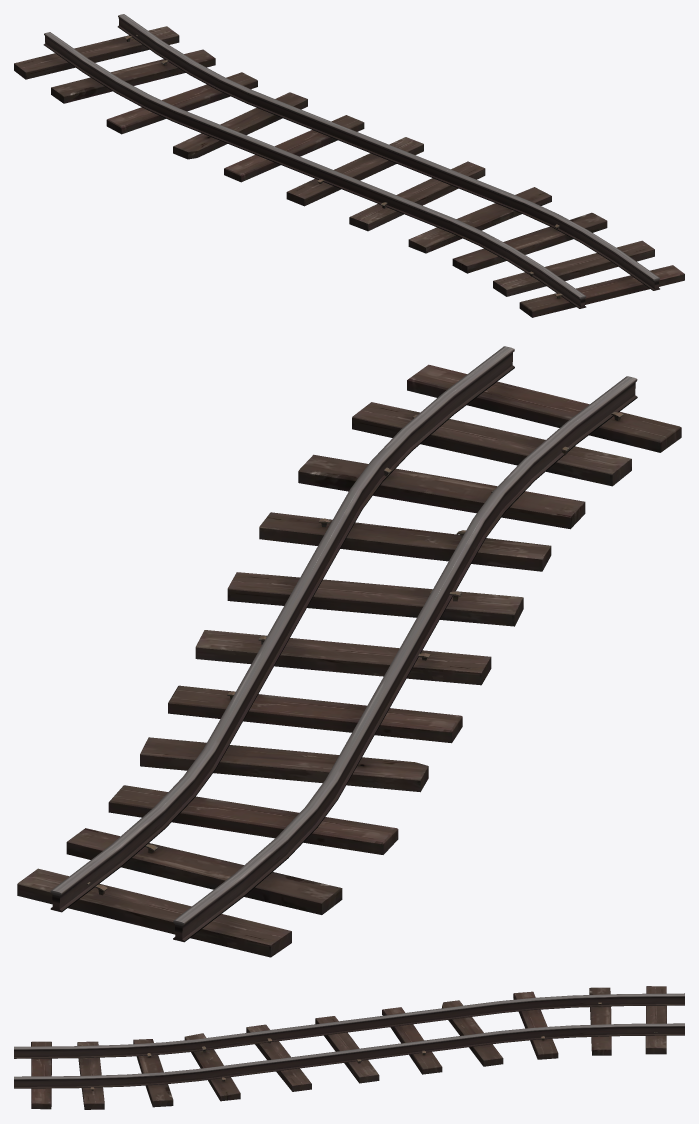
3 views of the same model, one above another, from view 1: azimuth 30°, elevation 25°; view 2: azimuth 150°, elevation 25°; view 3: azimuth 270°, elevation 25° (orthographic). The views are drawn at different scales.
Parts seen in each view (by area): view 1: body0_model0_lod0_mesh0; view 2: body0_model0_lod0_mesh0; view 3: body0_model0_lod0_mesh0.
Boxes of the visible parts, box(x1,y1,x2,y2) form: body0_model0_lod0_mesh0: box(14, 14, 684, 317); body0_model0_lod0_mesh0: box(17, 346, 681, 957); body0_model0_lod0_mesh0: box(14, 986, 684, 1109).
Bounding box in the file's own units: 106 × 6.69 × 256.
1 material, 1 textured.
